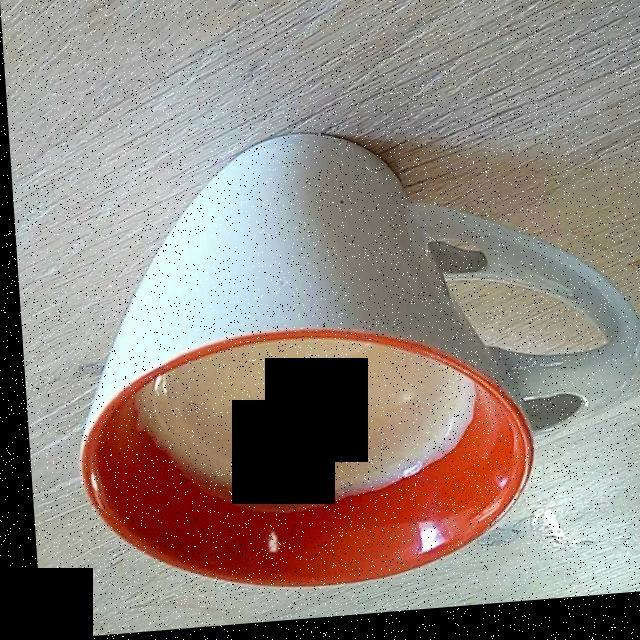coffee: (137, 349, 460, 512)
